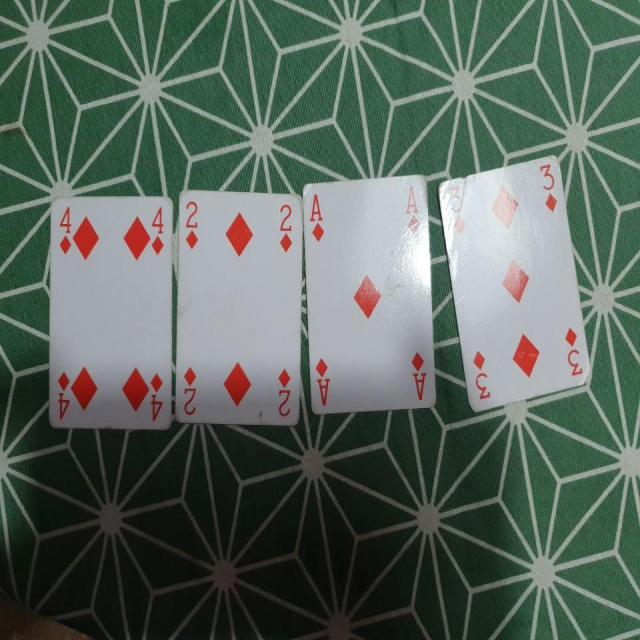2 Diamonds: (172, 183, 306, 424)
3 Diamonds: (439, 153, 592, 410)
4 Diamonds: (44, 193, 178, 434)
A Diamonds: (301, 164, 441, 416)
